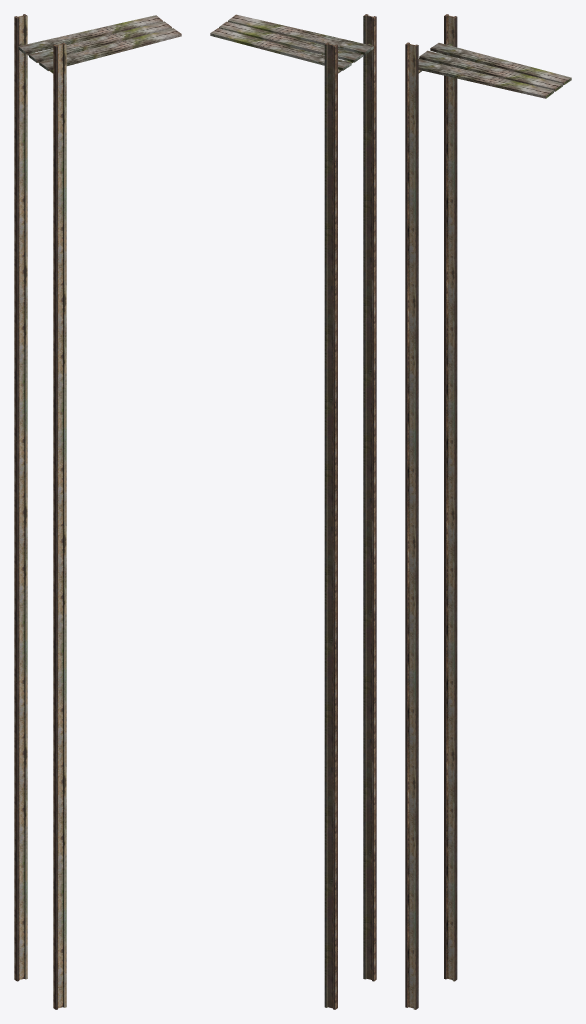
The model's file is PILLER RAMP.fbx.
3 views of the same model, side by side, from view 1: azimuth 30°, elevation 25°; view 2: azimuth 150°, elevation 25°; view 3: azimuth 330°, elevation 25° (orthographic).
Visible parts, largest first — view 1: PILLER, PILLER RAMP; view 2: PILLER, PILLER RAMP; view 3: PILLER, PILLER RAMP.
Part boxes in pixels (x1=…): PILLER: x1=14, y1=14, x2=66, y2=1009; PILLER RAMP: x1=18, y1=15, x2=181, y2=70; PILLER: x1=324, y1=14, x2=376, y2=1009; PILLER RAMP: x1=210, y1=14, x2=373, y2=70; PILLER: x1=405, y1=14, x2=457, y2=1009; PILLER RAMP: x1=418, y1=43, x2=571, y2=98.
Size of the model in its own units: 341 by 2300 by 180.
